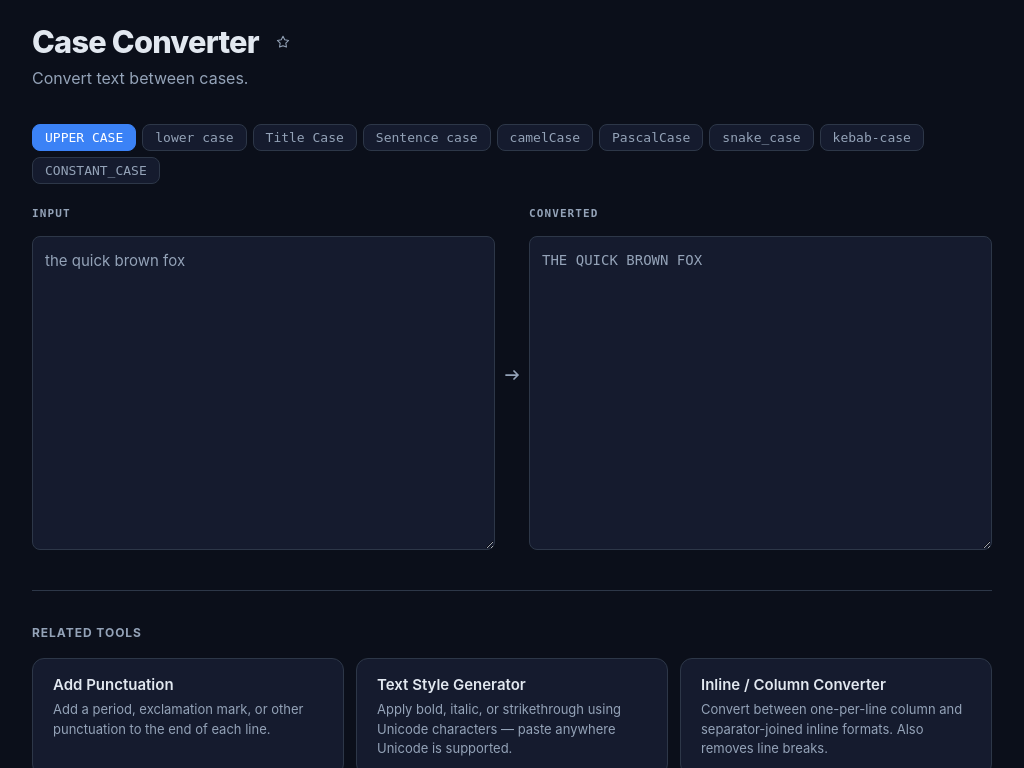
it: CaseConverter › converts to title case
The image size is (1024, 768).
Click the button "Title Case" at [305, 137], box [253,124,357,151]
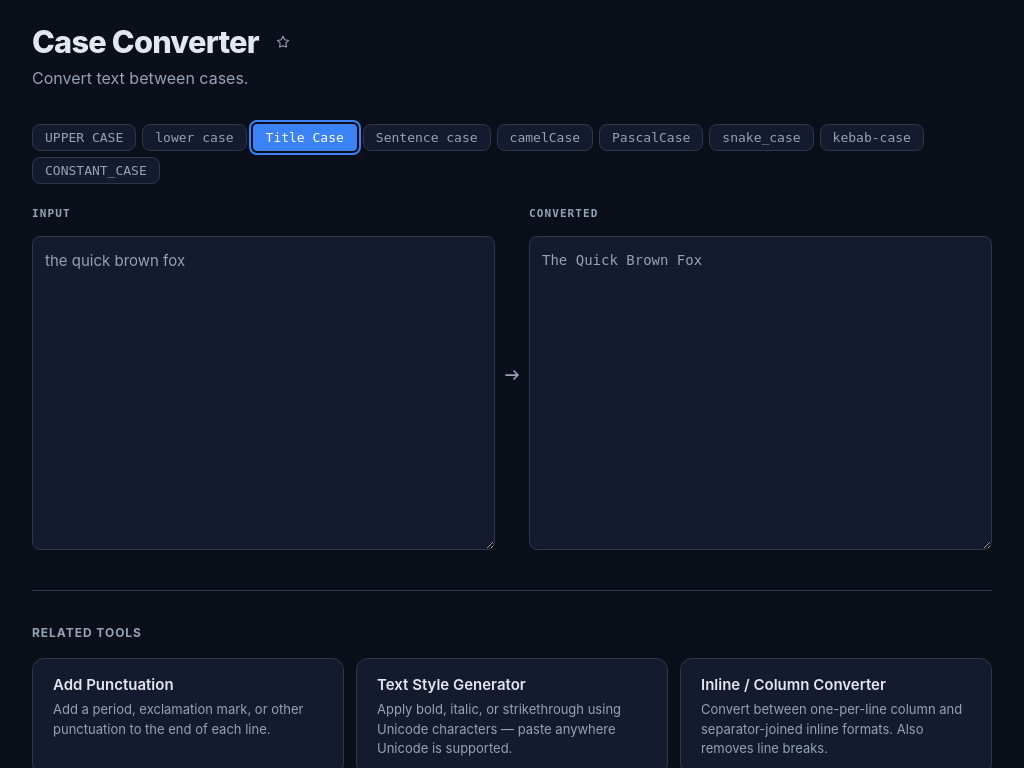
Type "hello world" into the text box named "input" at [264, 393], box [32,236,495,550]
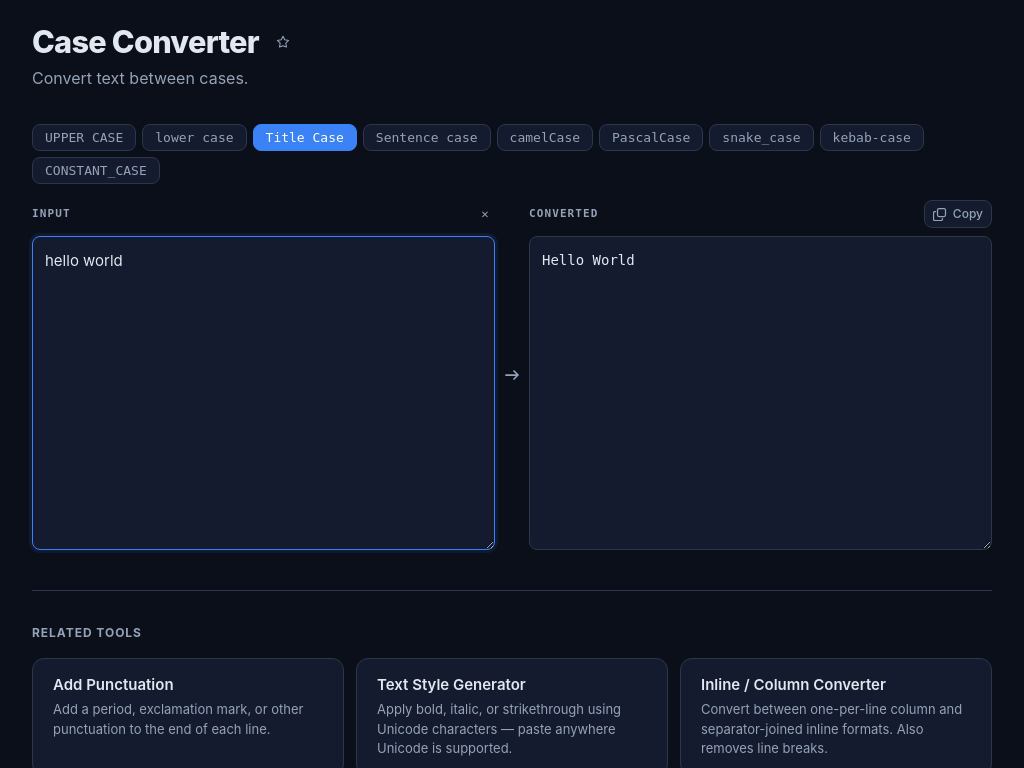
Expected: the text box named "converted" holds "Hello World", [529,236,992,550]
